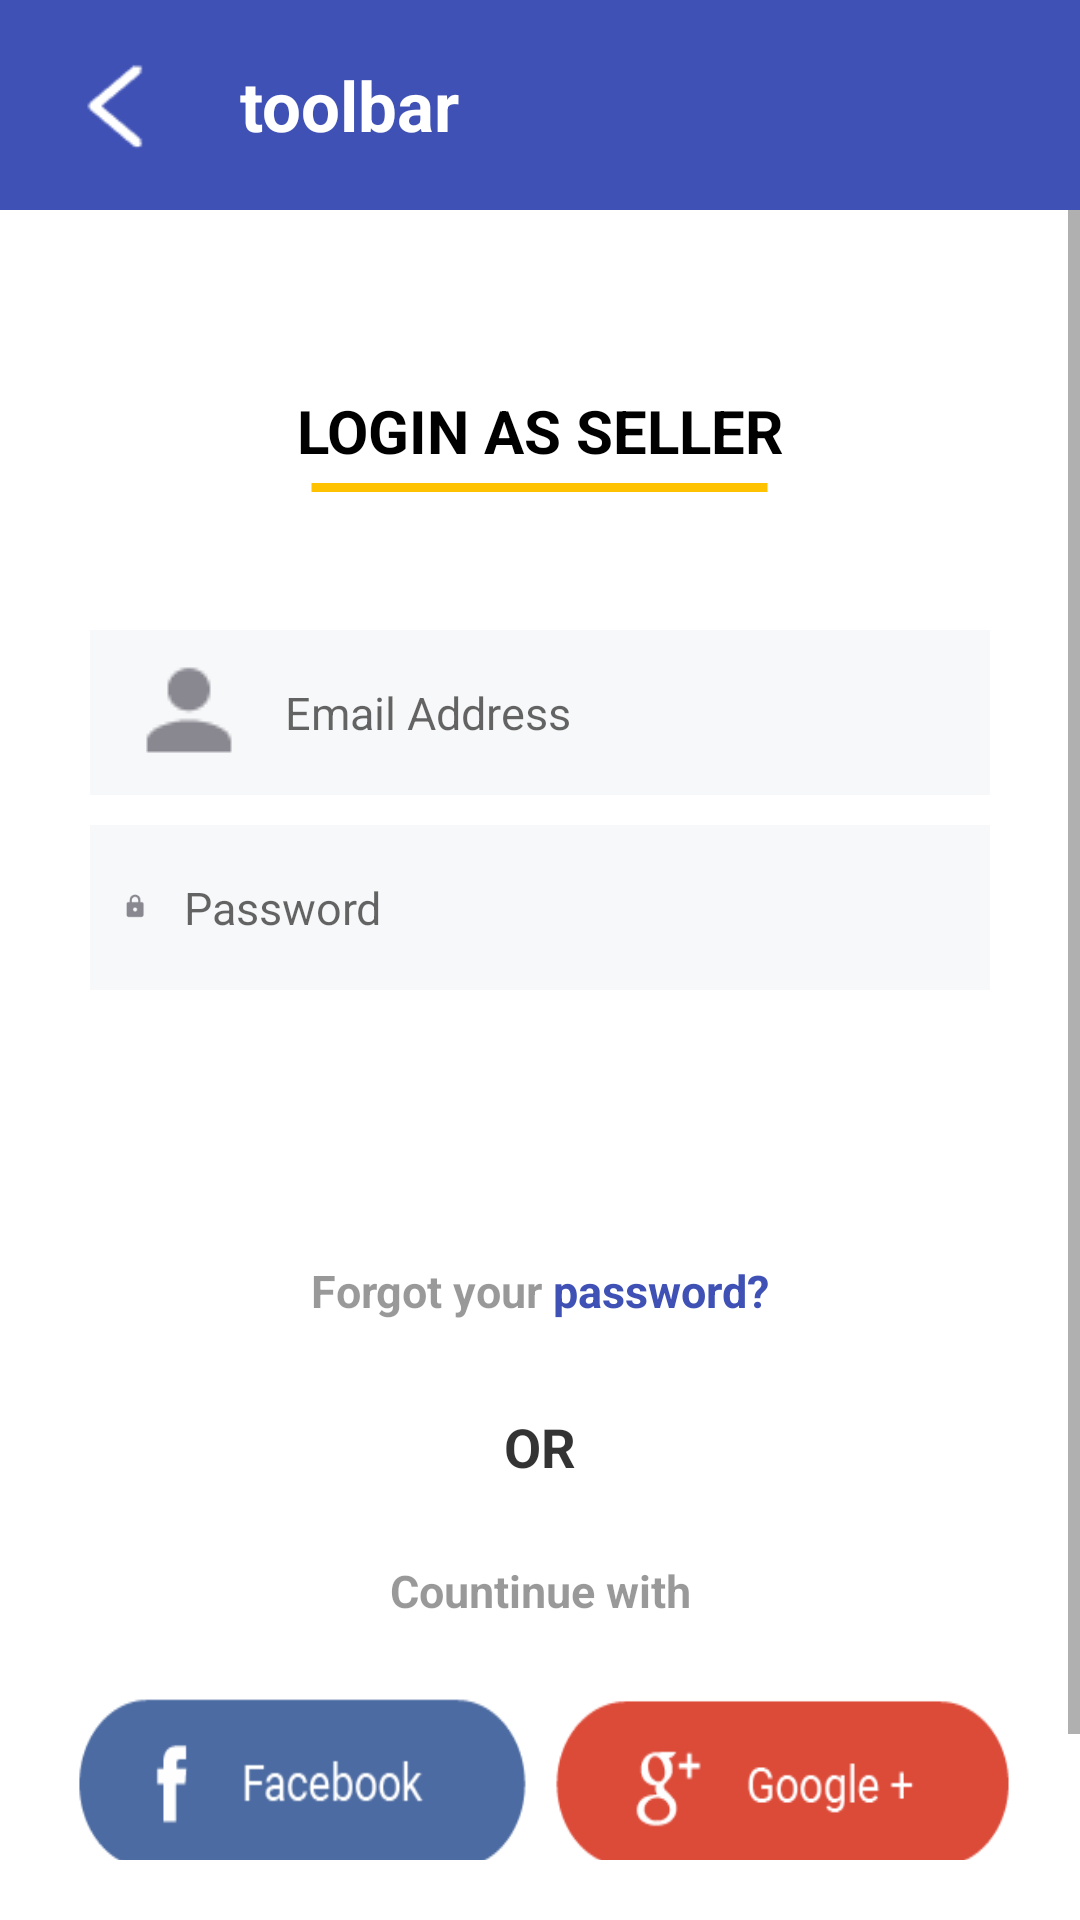

Screen size 1080×1920. Icon name, then its center in pixels as point (x, y):
back: point (115, 106)
